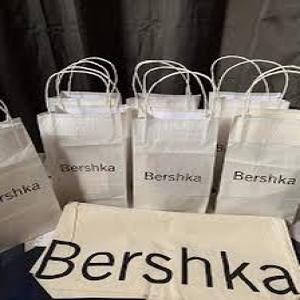bershka: (32, 232, 298, 300), (0, 175, 47, 208), (232, 166, 296, 189), (142, 165, 202, 187), (55, 159, 117, 177)
